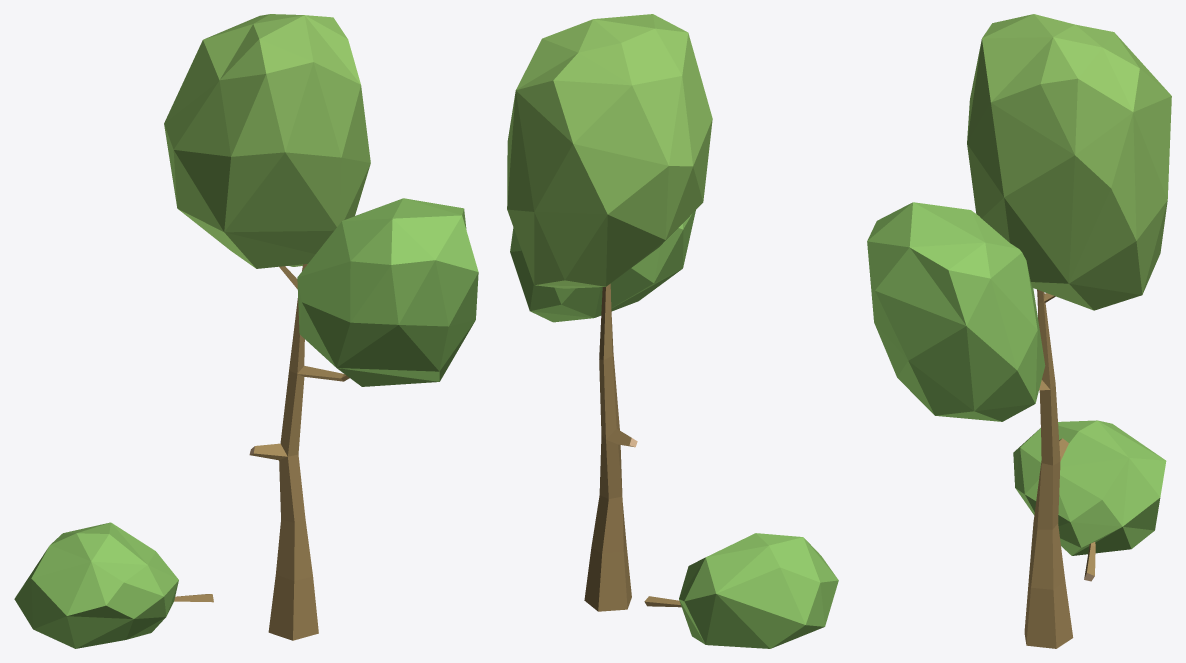
File: Oak_Tree_crk_m_02_LOD.fbx
The picture shows the model from 3 angles, left to right: view 1: azimuth 30°, elevation 25°; view 2: azimuth 150°, elevation 25°; view 3: azimuth 270°, elevation 25°; orthographic projection. The views are drawn at different scales.
Visible parts, largest first — view 1: Oak_Tree_crk_m_02_LOD0; view 2: Oak_Tree_crk_m_02_LOD0; view 3: Oak_Tree_crk_m_02_LOD0.
Part boxes in pixels (x1,y1,x2,y2): Oak_Tree_crk_m_02_LOD0: (14, 14, 478, 648); Oak_Tree_crk_m_02_LOD0: (507, 14, 838, 648); Oak_Tree_crk_m_02_LOD0: (867, 14, 1171, 648).
Size of what is drawn, in the model's own units: 556 by 857 by 389.
